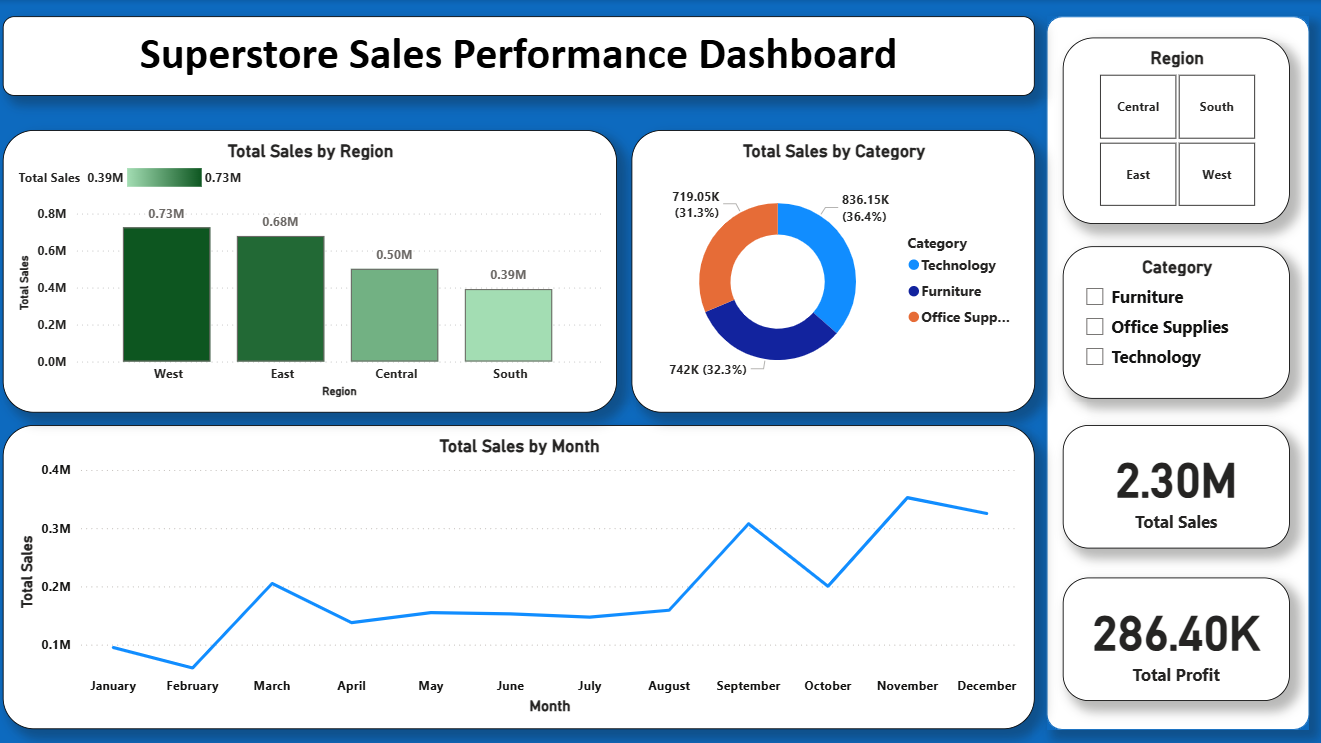

The dashboard page shown, as its layout file describes it:
{"tool":"powerbi","page":{"name":"Page 1","canvas":[1280,720],"ordinal":0},"visuals":[{"type":"shape","box":[1011.3,15.1,253.9,688.9],"z":0},{"type":"lineChart","fields":{"Category":["Sample - Superstore.MonthYear.Variation.Date Hierarchy.Month"],"Y":["Sample - Superstore.Total Sales"]},"box":[4.1,410.3,996.2,293.7],"z":1000},{"type":"columnChart","fields":{"Category":["Sample - Superstore.Region"],"Y":["Sample - Superstore.Total Sales"]},"box":[4.1,124.9,592.8,273.1],"z":2000},{"type":"donutChart","fields":{"Y":["Sample - Superstore.Total Sales"],"Category":["Sample - Superstore.Category"]},"box":[610.6,124.9,389.7,273.1],"z":3000},{"type":"card","fields":{"Values":["Sample - Superstore.Total Sales"]},"box":[1026.4,410.3,219.6,119.4],"z":4000},{"type":"slicer","title":"Category","fields":{"Values":["Sample - Superstore.Category"]},"box":[1026.4,237.4,219.6,146.8],"z":5000},{"type":"slicer","title":"Region","fields":{"Values":["Sample - Superstore.Region"]},"box":[1026.4,35.7,219.6,179.8],"z":6000},{"type":"textbox","box":[4.1,15.1,996.2,76.8],"z":7000},{"type":"card","fields":{"Values":["Sample - Superstore.Total Profit"]},"box":[1026.4,557.1,219.6,119.4],"z":8000}]}

Visuals, with their boxes in screenshot pixels (x1, y1, x2, y2), scaled from the page's 1280x720 canvas onto the 1321x743 screenshot:
shape: (left=1044, top=16, right=1306, bottom=726)
lineChart - Sample - Superstore.MonthYear.Variation.Date Hierarchy.Month x Sample - Superstore.Total Sales: (left=4, top=423, right=1032, bottom=726)
columnChart - Sample - Superstore.Region x Sample - Superstore.Total Sales: (left=4, top=129, right=616, bottom=411)
donutChart - Sample - Superstore.Total Sales x Sample - Superstore.Category: (left=630, top=129, right=1032, bottom=411)
card - Sample - Superstore.Total Sales: (left=1059, top=423, right=1286, bottom=547)
"Category" slicer: (left=1059, top=245, right=1286, bottom=396)
"Region" slicer: (left=1059, top=37, right=1286, bottom=222)
textbox: (left=4, top=16, right=1032, bottom=95)
card - Sample - Superstore.Total Profit: (left=1059, top=575, right=1286, bottom=698)
